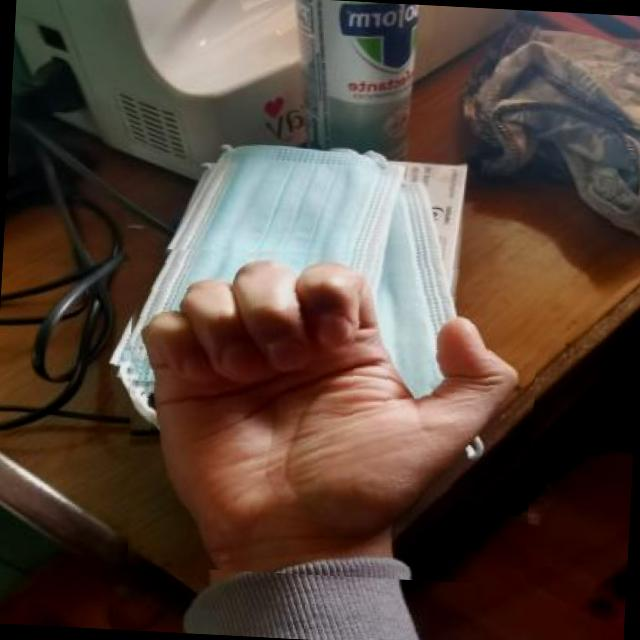E: (116, 236, 542, 586)
